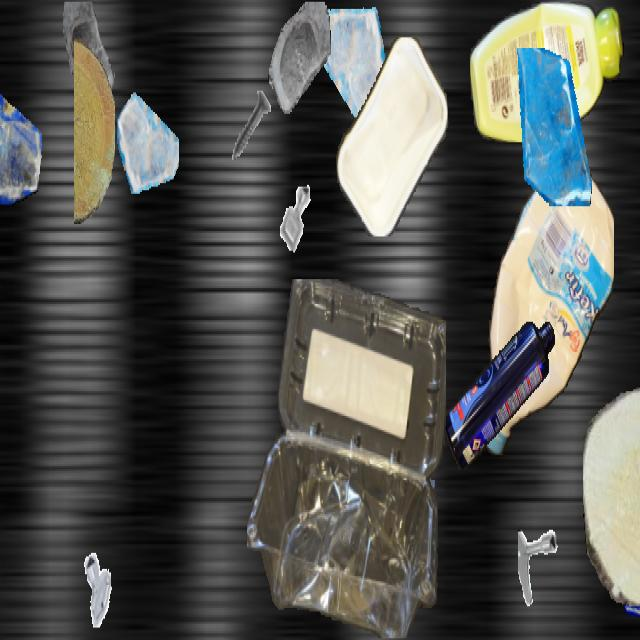glass: (508, 48, 596, 204), (359, 426, 435, 562), (315, 2, 387, 130), (59, 1, 123, 116), (117, 84, 179, 194), (268, 2, 330, 112), (0, 52, 42, 208), (613, 512, 640, 622)
metal: (518, 526, 578, 633), (225, 80, 279, 176), (270, 172, 322, 265), (78, 548, 122, 626)
plastic: (247, 279, 445, 638), (484, 153, 614, 462), (335, 38, 449, 236), (470, 2, 624, 140), (444, 322, 554, 468)
wood: (583, 388, 640, 604), (74, 39, 114, 224)
